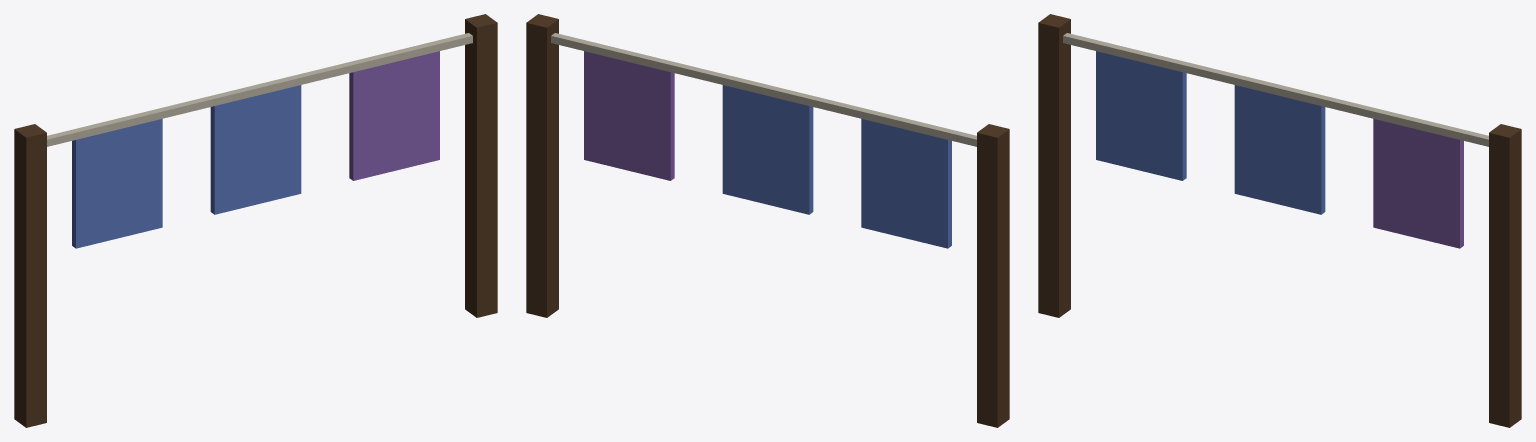
Rendered from washing-line.glb.
3 renders of one model, left to right at view 1: azimuth 30°, elevation 25°; view 2: azimuth 150°, elevation 25°; view 3: azimuth 330°, elevation 25°, orthographic.
Parts seen in each view (by area): view 1: Washing Line; view 2: Washing Line; view 3: Washing Line.
Boxes of the visible parts, box(x1,y1,x2,y2) form: Washing Line: box(14, 14, 497, 427); Washing Line: box(526, 14, 1009, 427); Washing Line: box(1038, 14, 1521, 427).
Bounding box in the file's own units: 0.272 × 0.16 × 0.012.
